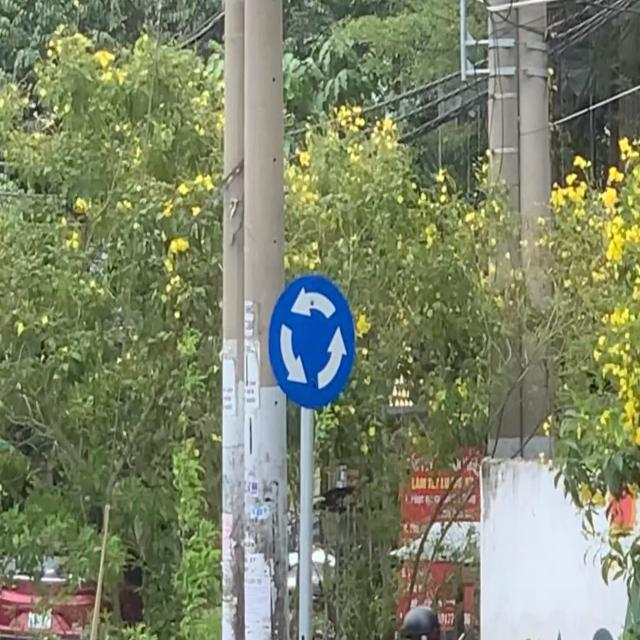Vong xuyen: (266, 273, 356, 412)
